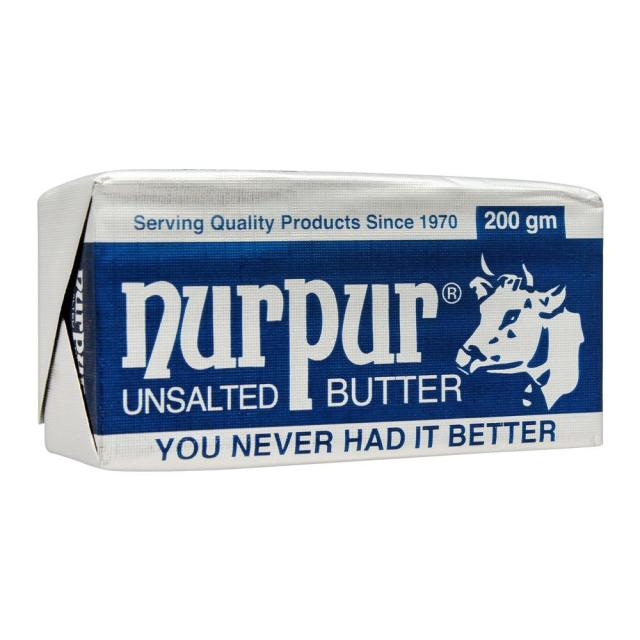butter: (38, 168, 605, 472)
